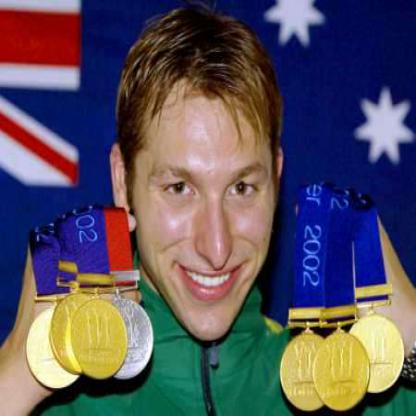face: (131, 27, 280, 344)
